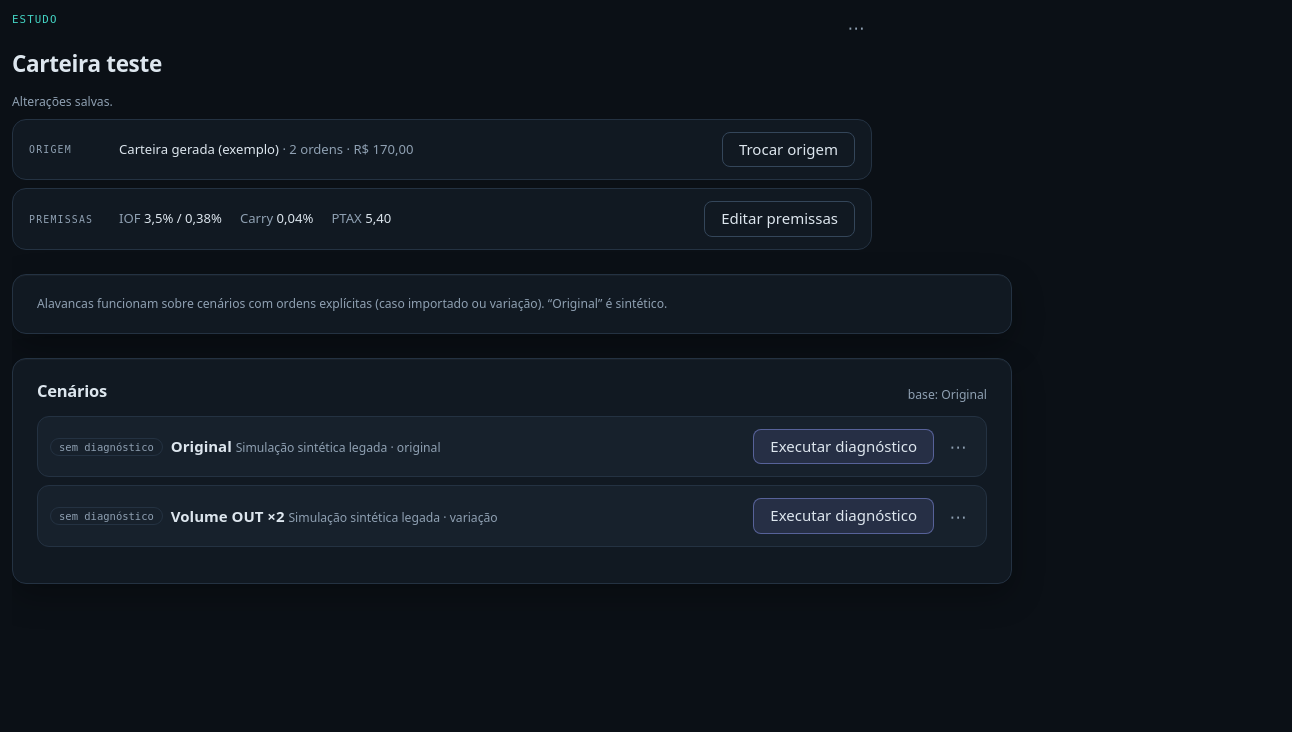
Test: StudyPortfolioPage · cenários › renomeia pelo ⋯
Click the button named "Mais ações: Volume OUT ×2" at [958, 516], box [942, 500, 974, 532]
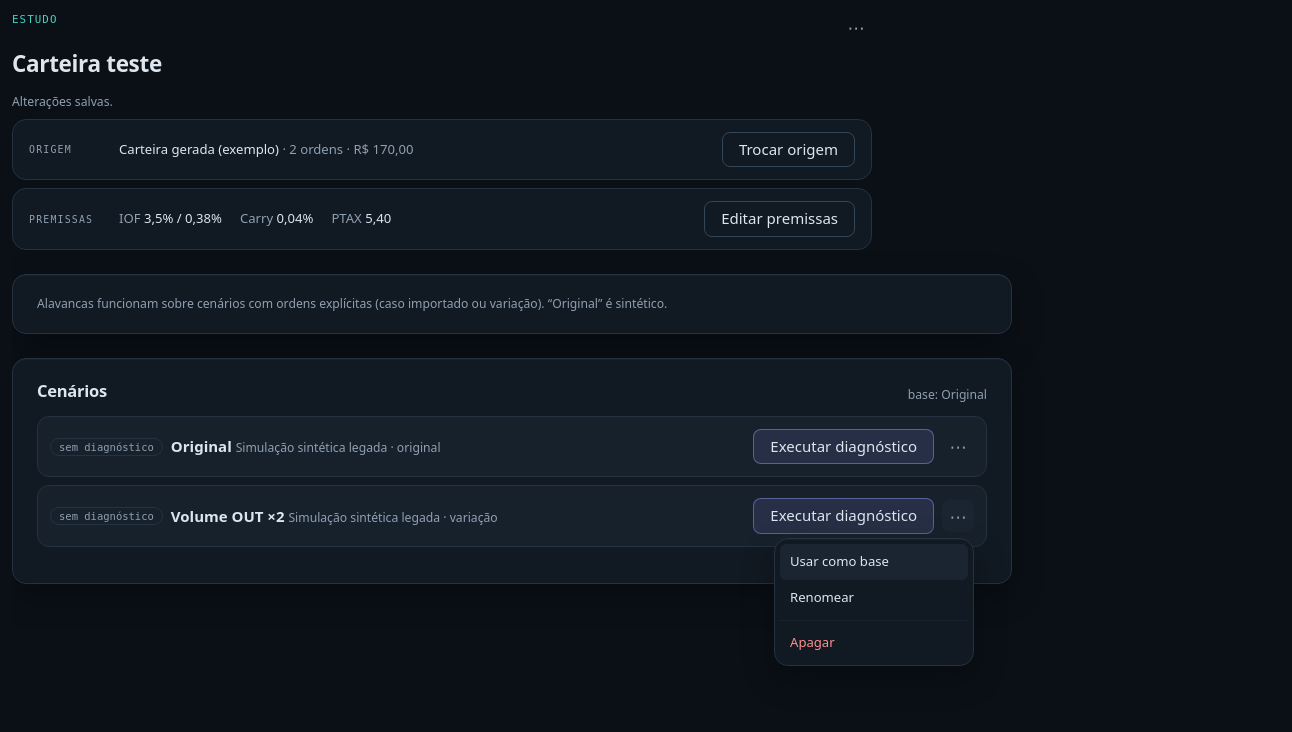
Click the menu item with aria-label "Renomear cenário Volume OUT ×2" at [874, 598], box [780, 580, 968, 616]
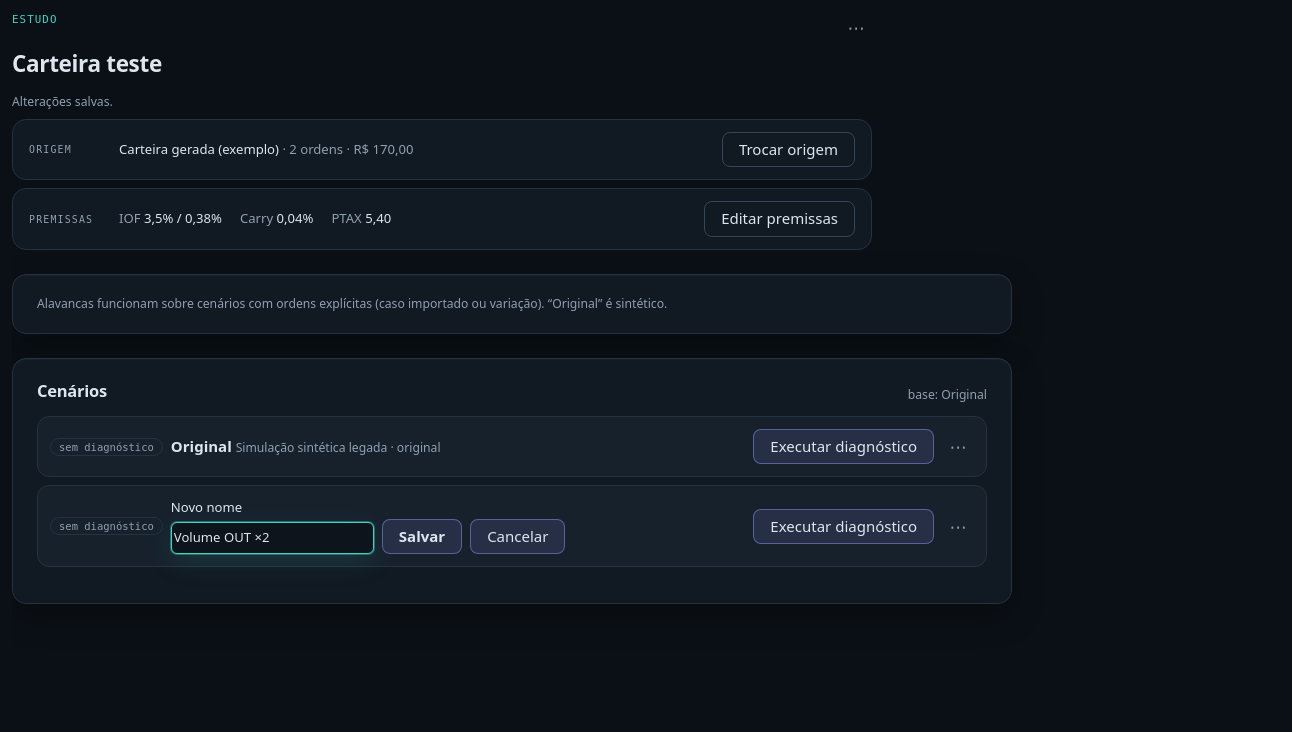
Replace the text in the field labelled "Novo nome" with "Dobro do OUT" at [272, 538], box [171, 522, 374, 554]
Then press Enter
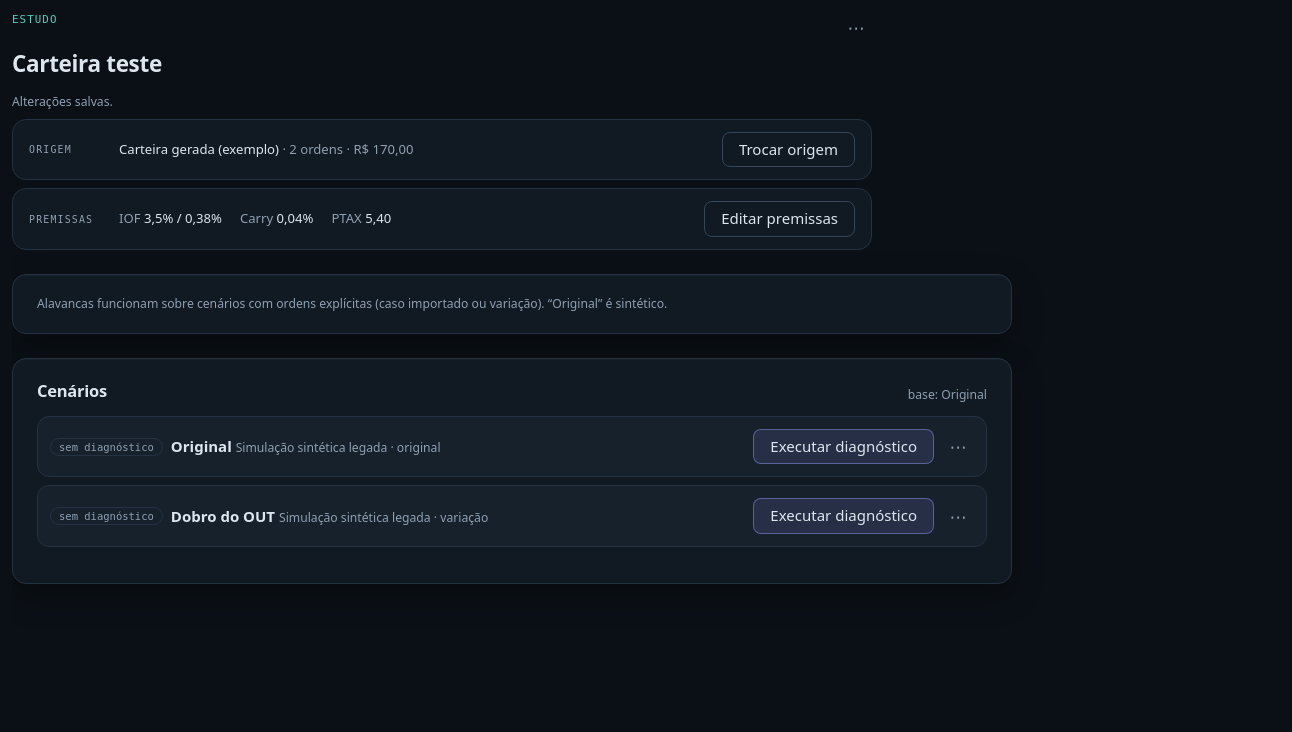
Expected: the text "Dobro do OUT" is shown, [171, 506, 275, 526]
